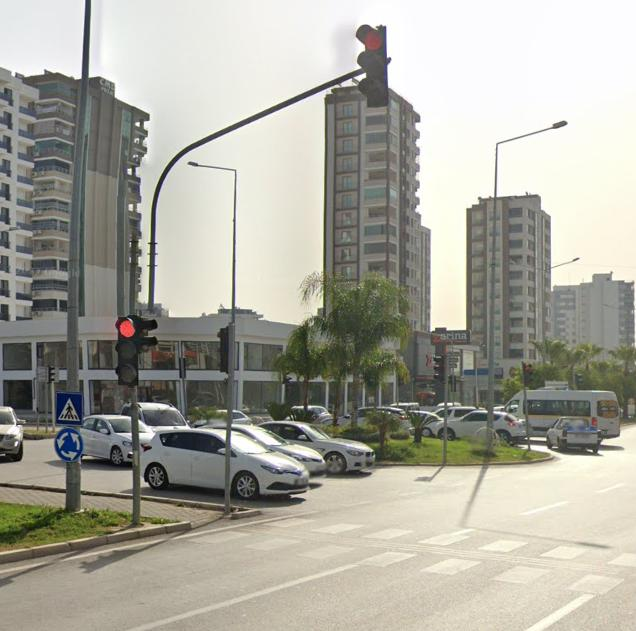redlight: (354, 24, 389, 105), (115, 316, 139, 388), (523, 363, 534, 389)
